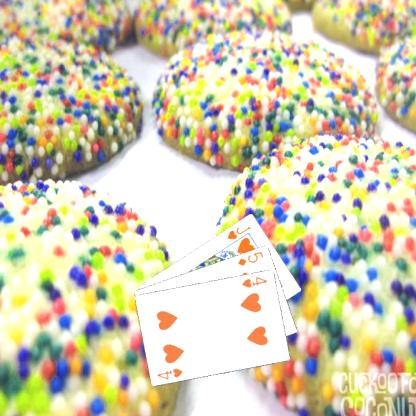4H: (239, 274, 269, 289), (154, 365, 184, 380)
5D: (235, 248, 265, 267)
JH: (224, 223, 252, 240)
